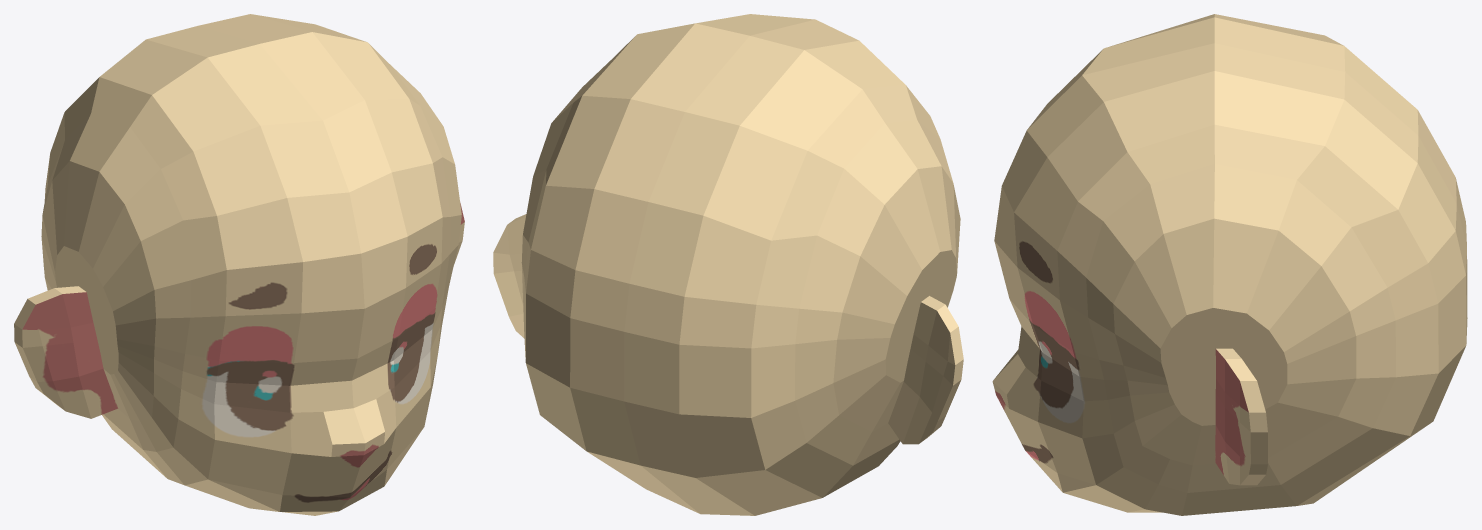
The model's file is Female Head_REDUCED.fbx.
The picture shows the model from 3 angles, left to right: view 1: azimuth 30°, elevation 25°; view 2: azimuth 150°, elevation 25°; view 3: azimuth 270°, elevation 25°; orthographic projection. The views are drawn at different scales.
Parts seen in each view (by area): view 1: Plane.001; view 2: Plane.001; view 3: Plane.001.
Part boxes in pixels (x1=…): Plane.001: x1=14, y1=14, x2=464, y2=515; Plane.001: x1=493, y1=14, x2=963, y2=515; Plane.001: x1=992, y1=14, x2=1467, y2=515.
Bounding box in the file's own units: 9.89 × 9.21 × 8.75.
